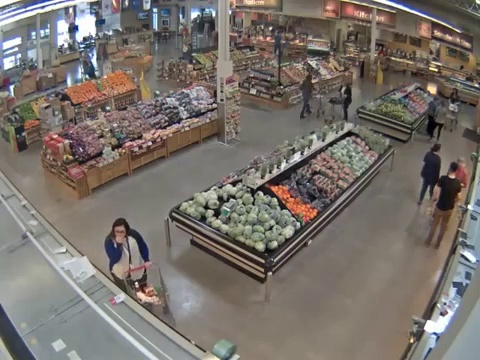face: (113, 226, 125, 238)
